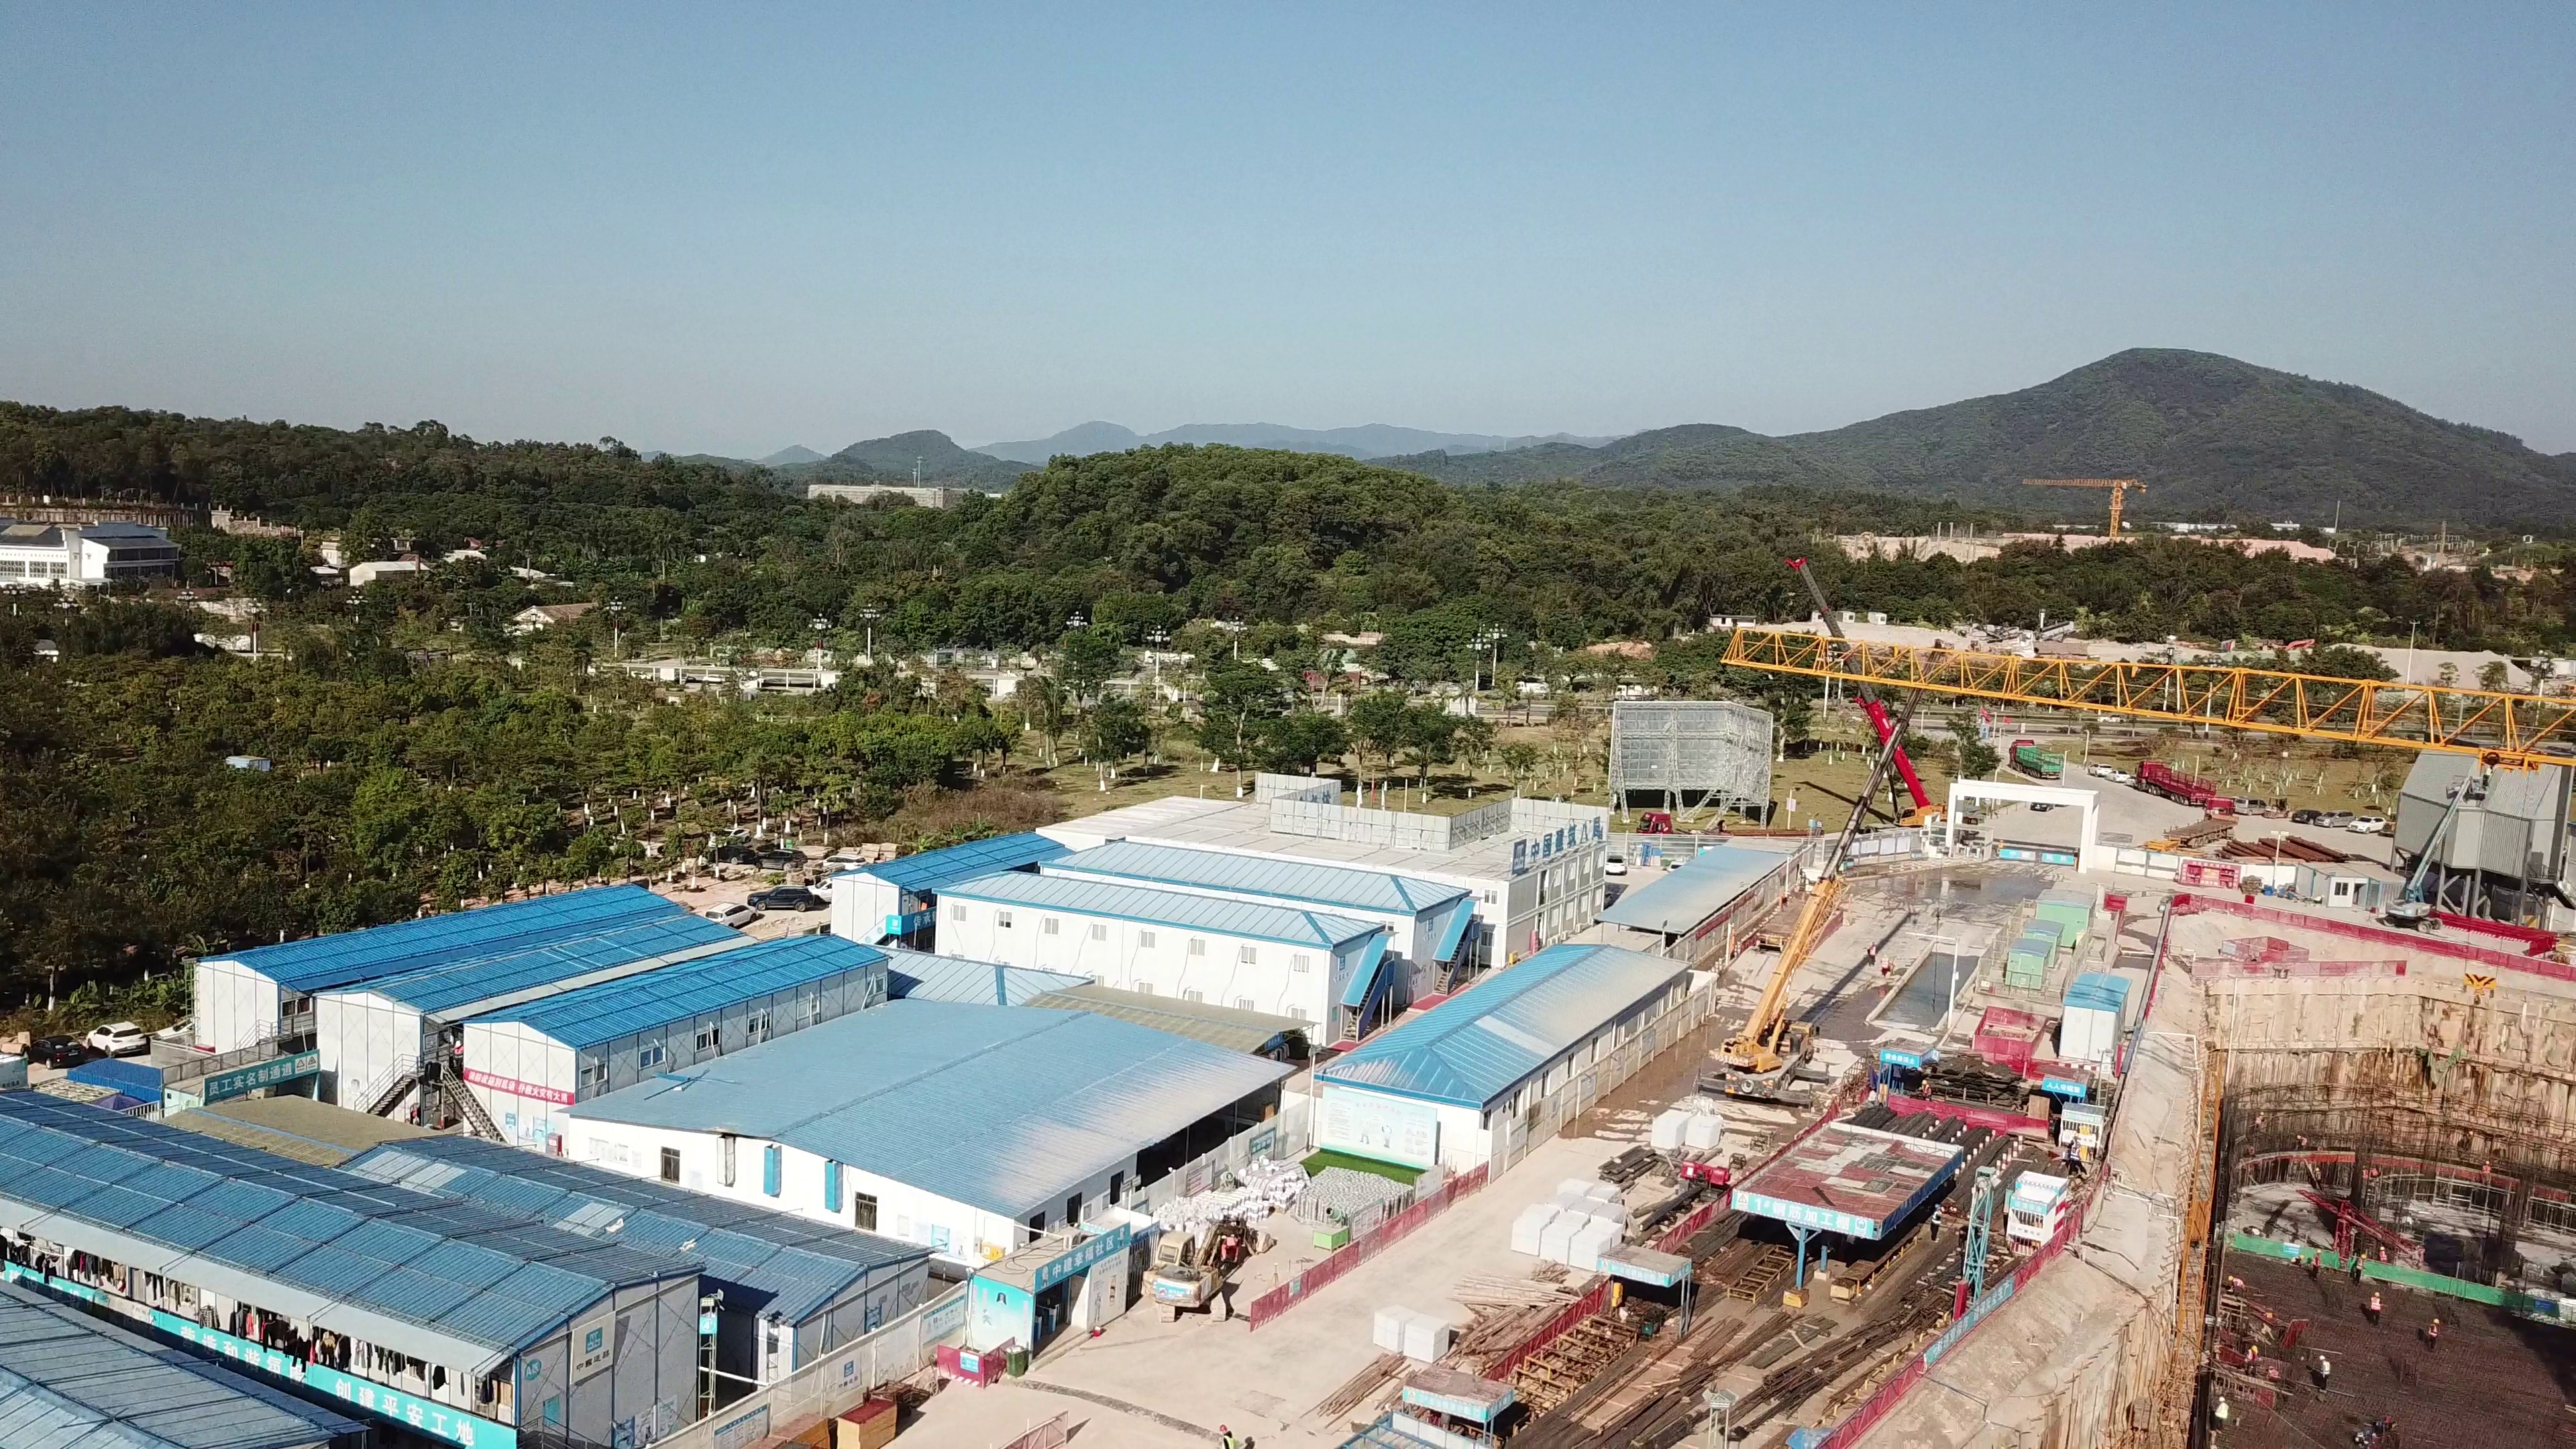helmet: (2318, 1356, 2328, 1362), (2249, 1344, 2257, 1351), (2432, 1317, 2441, 1324), (2218, 1396, 2227, 1401), (2373, 1292, 2381, 1297), (2228, 1275, 2233, 1283), (2074, 1140, 2081, 1146), (2316, 1249, 2322, 1254), (2380, 1247, 2385, 1252), (1935, 1204, 1941, 1211), (1922, 1079, 1927, 1084), (2300, 1253, 2304, 1260), (2314, 1167, 2320, 1172), (2297, 1134, 2300, 1140), (2361, 1254, 2365, 1258)
person: (2068, 1135, 2092, 1177), (2210, 1395, 2231, 1433), (1932, 1203, 1949, 1239), (2318, 1353, 2332, 1395), (2244, 1342, 2261, 1375), (2369, 1288, 2383, 1326), (1857, 940, 1877, 965), (2427, 1318, 2441, 1350), (2477, 1159, 2493, 1187), (2226, 1274, 2248, 1294), (2355, 1253, 2367, 1288), (2312, 1246, 2324, 1279), (1916, 1077, 1935, 1098), (2251, 1110, 2266, 1134), (1878, 955, 1893, 974), (2296, 1134, 2310, 1149), (2313, 1166, 2324, 1187), (2292, 1251, 2306, 1268), (2379, 1246, 2390, 1263)
vest: (2217, 1403, 2229, 1418), (2234, 1277, 2247, 1289), (2247, 1352, 2259, 1364), (1933, 1211, 1941, 1227), (2313, 1255, 2322, 1267), (2068, 1148, 2080, 1161), (2320, 1362, 2330, 1377), (2371, 1298, 2379, 1312), (1921, 1085, 1932, 1095), (2430, 1325, 2438, 1340), (2358, 1260, 2365, 1275), (2254, 1117, 2261, 1126), (2292, 1255, 2300, 1263), (2380, 1253, 2387, 1260), (2314, 1172, 2321, 1179), (2302, 1138, 2307, 1146)
